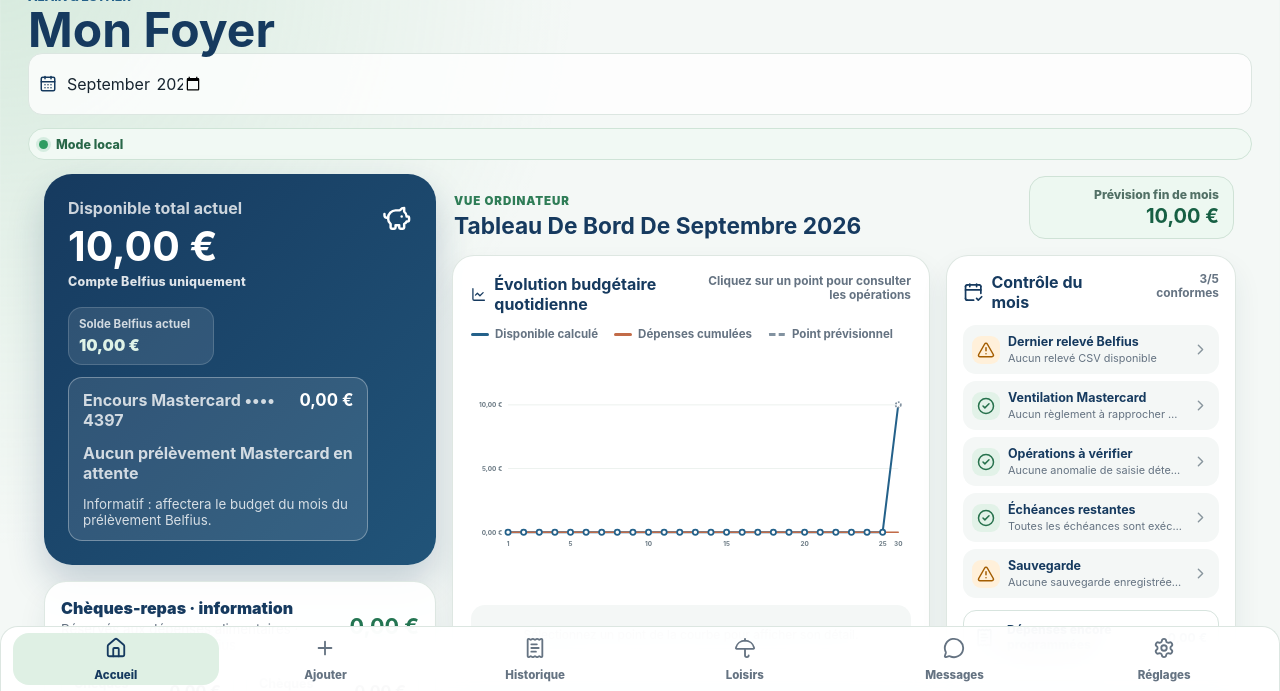
formulaire des opérations › annule une modification, vide les champs et ne contacte jamais Supabase
Click the button "Historique" at (535, 659), box [432,633,638,685]
(page scrolled)
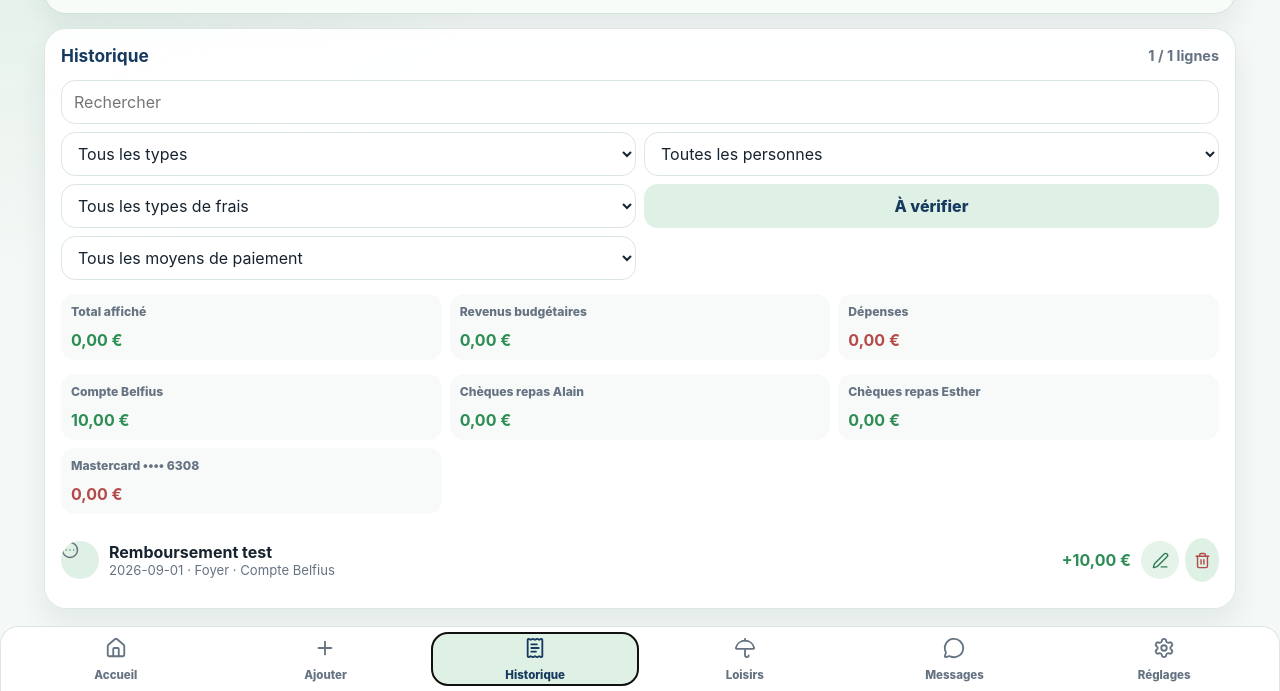
Click the button named "Modifier" at (1160, 560), box [1141,541,1179,579]
(page scrolled)
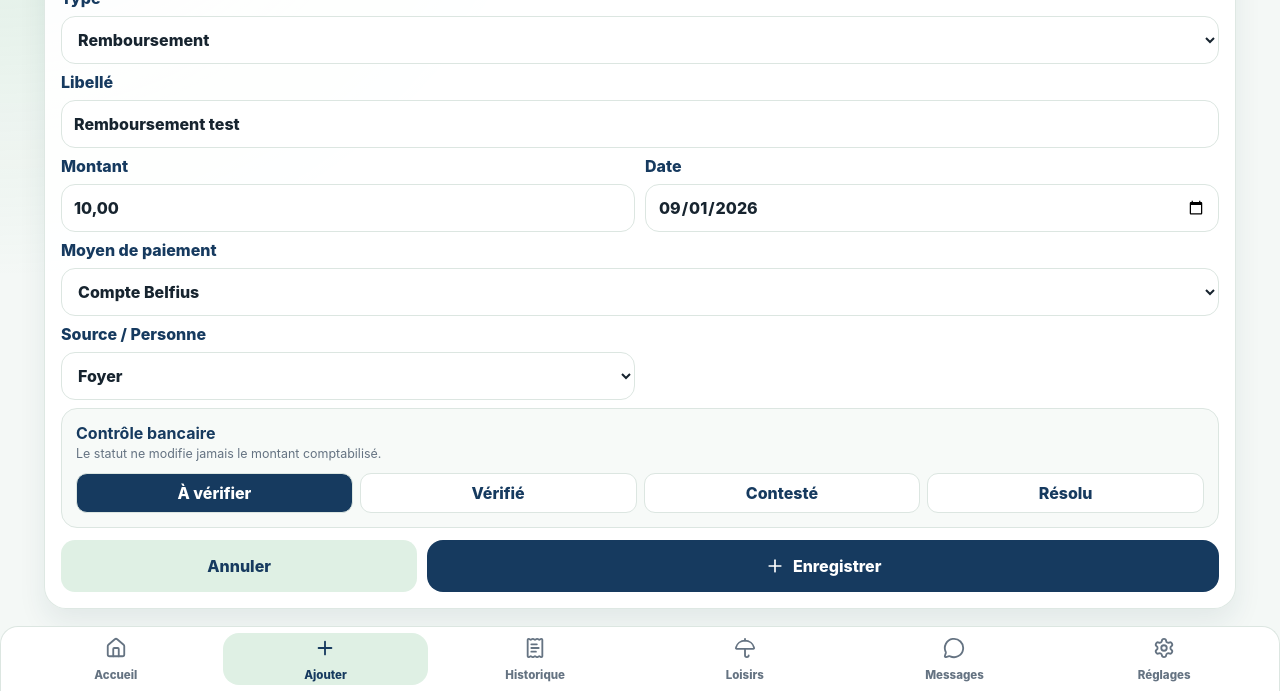
Replace the text in the field labelled "Montant" with "42,50" at (348, 208), box [61,184,635,232]
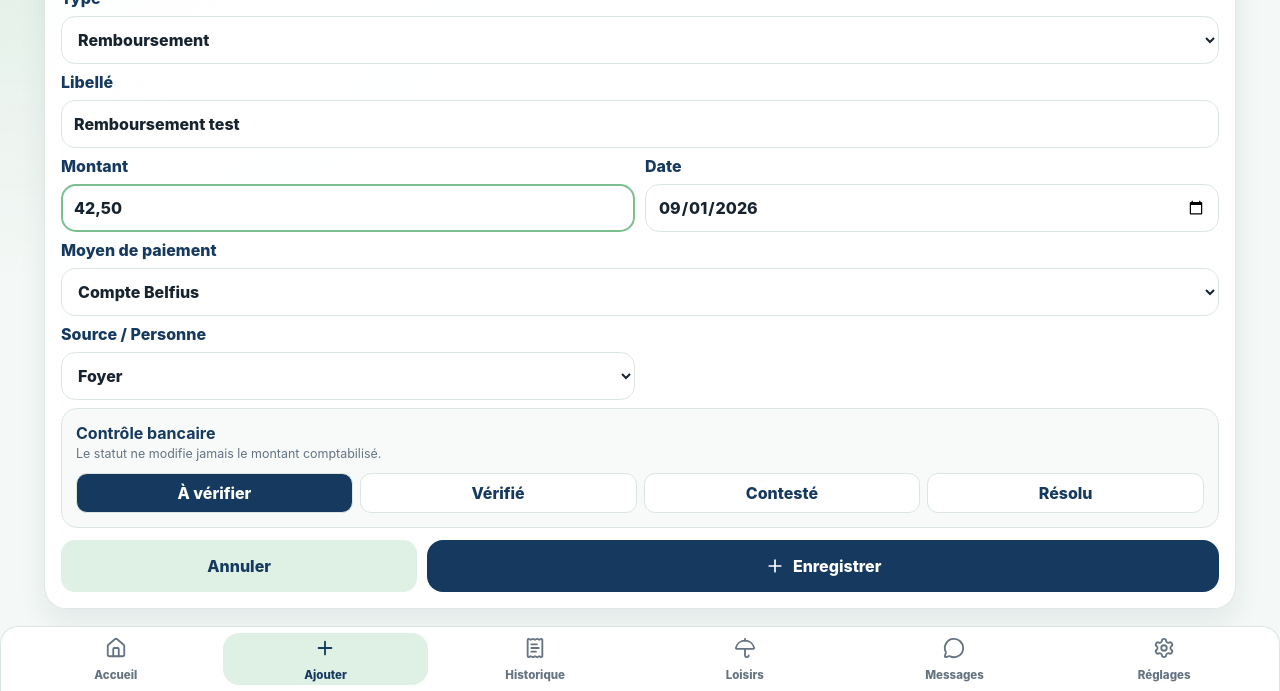
Click the button "Annuler" at (239, 566), box [61,540,417,592]
(page scrolled)
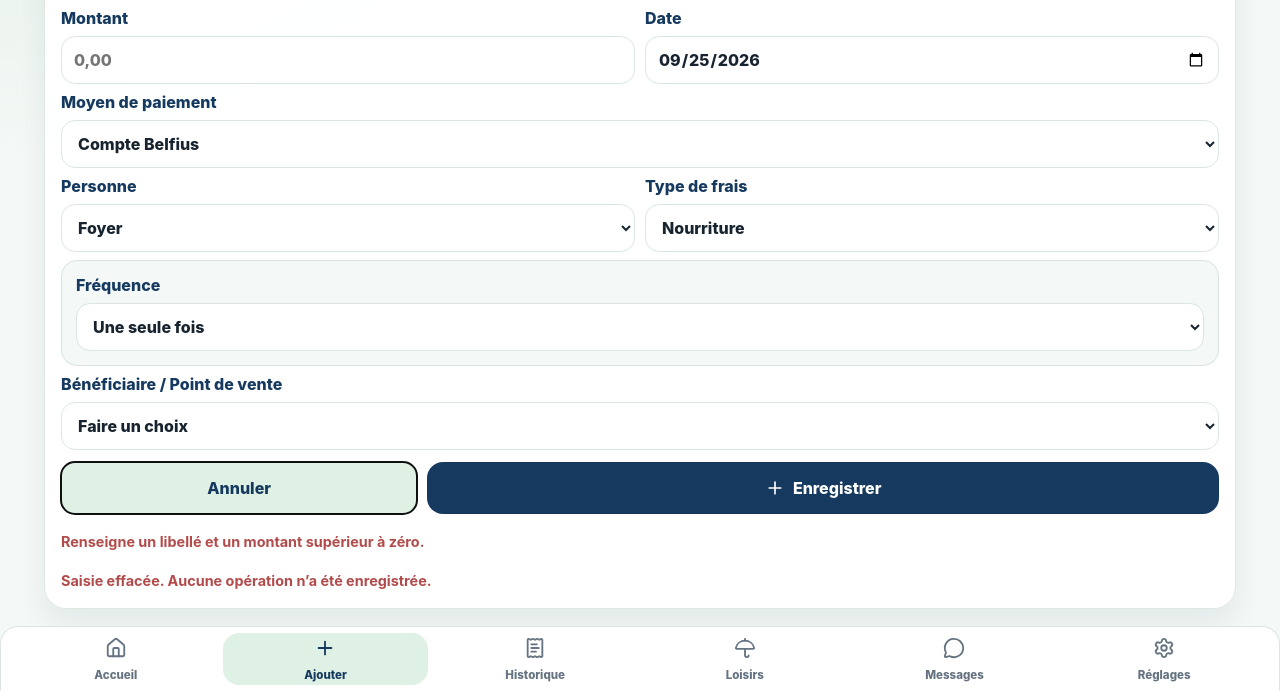
Now the text "Saisie effacée. Aucune opération n’a été enregistrée." is shown, box [61,572,432,589]
